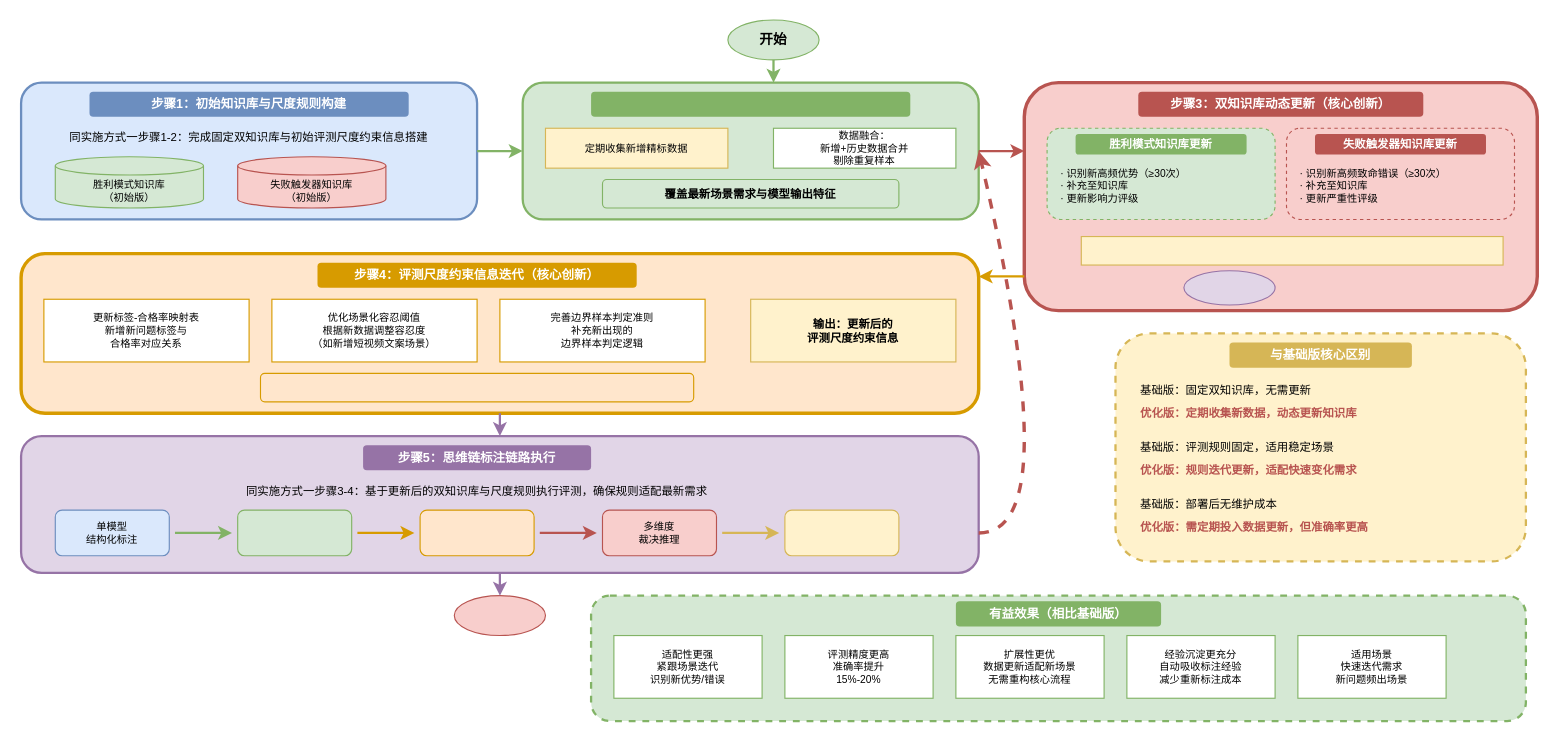
Some shapes in this 1558 by 742 pixel diagram are drawn without their labels. The centre of each missing label's shape, as x and y in pixels:
"去重优化：删除低频优势/错误（<5次），确保知识库精简高效（≤20个）" belongs at point (1291, 250).
"双模型 事实归档" belongs at point (294, 532).
"双模型 对比评估" belongs at point (476, 532).
"基于融合后的全量数据重新提炼" belongs at point (476, 387).
"大语言模型 自动学习" belongs at point (1229, 287).
"步骤2：新增精标数据收集与融合" belongs at point (750, 103).
"结束/循环" belongs at point (499, 615).
"裁决结果 （胜/平/负）" belongs at point (841, 532).
